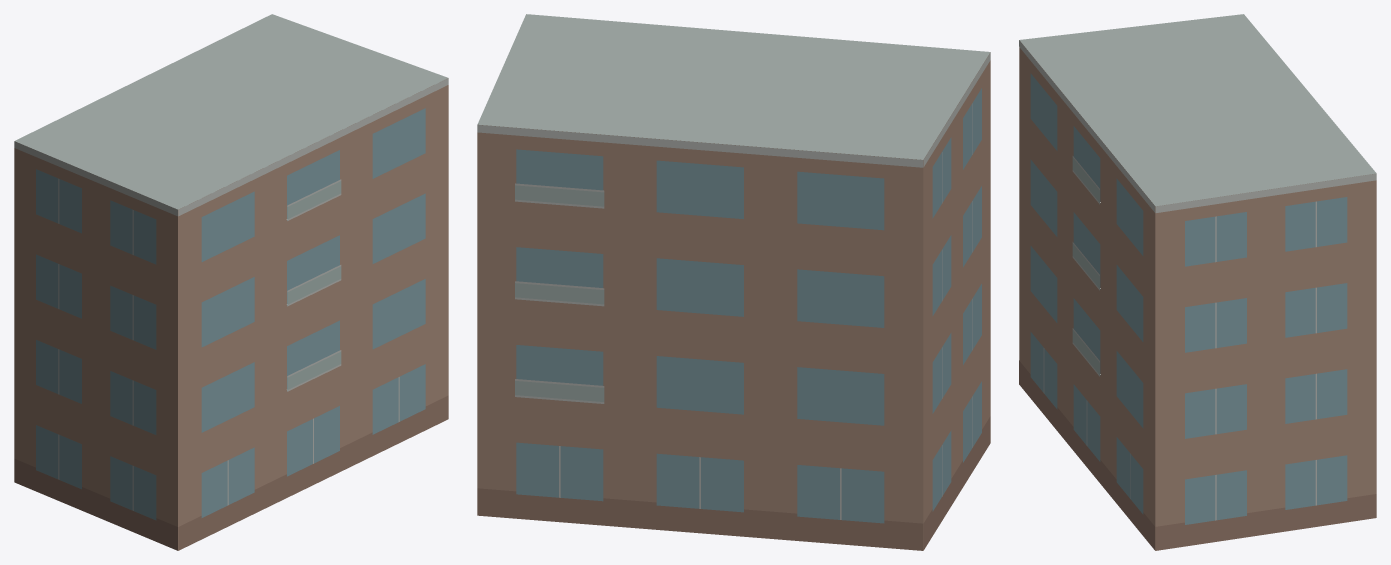
The model's file is survey-upis-33004290.glb.
3 views of the same model, side by side, from view 1: azimuth 30°, elevation 25°; view 2: azimuth 150°, elevation 25°; view 3: azimuth 270°, elevation 25° (orthographic). The views are drawn at different scales.
Parts seen in each view (by area): view 1: survey-upis-33004290.tmp; view 2: survey-upis-33004290.tmp; view 3: survey-upis-33004290.tmp.
Boxes of the visible parts, <box> form: survey-upis-33004290.tmp: <box>14,14,448,550</box>; survey-upis-33004290.tmp: <box>477,14,990,550</box>; survey-upis-33004290.tmp: <box>1019,14,1376,550</box>.
Bounding box in the file's own units: 14.62 × 12.2 × 11.48.
